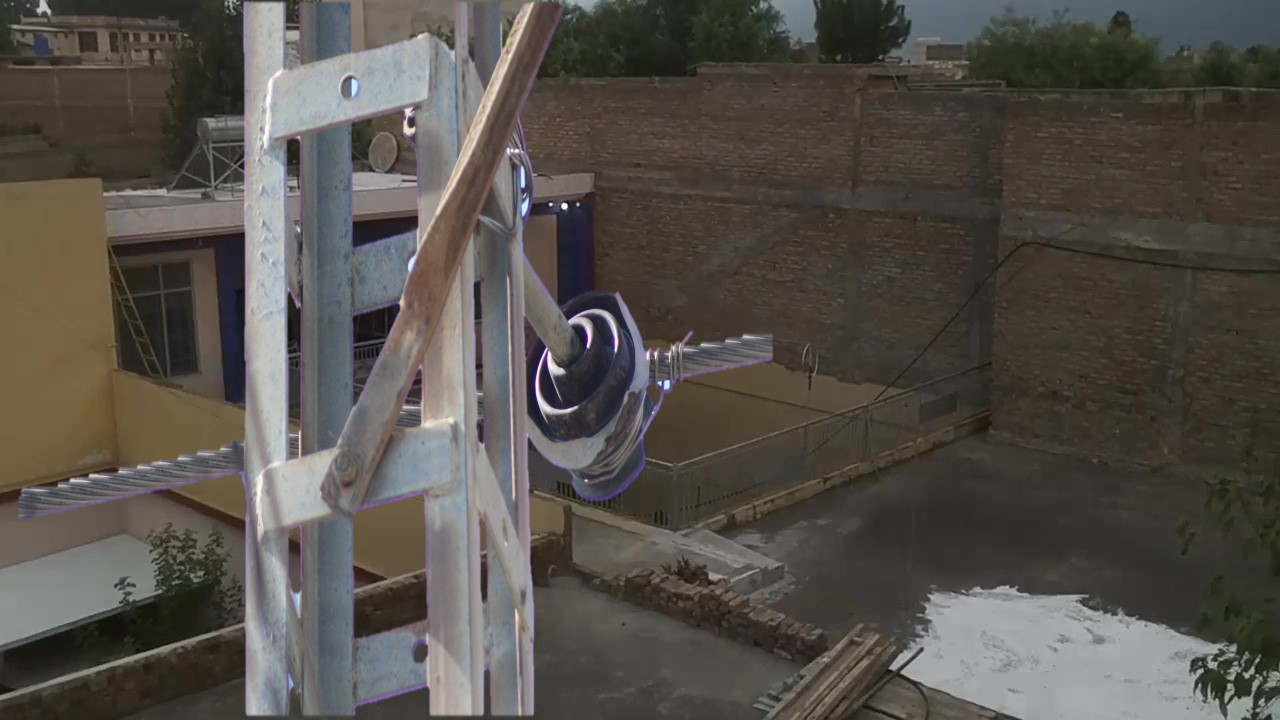defect_pin: (523, 282, 679, 517)
